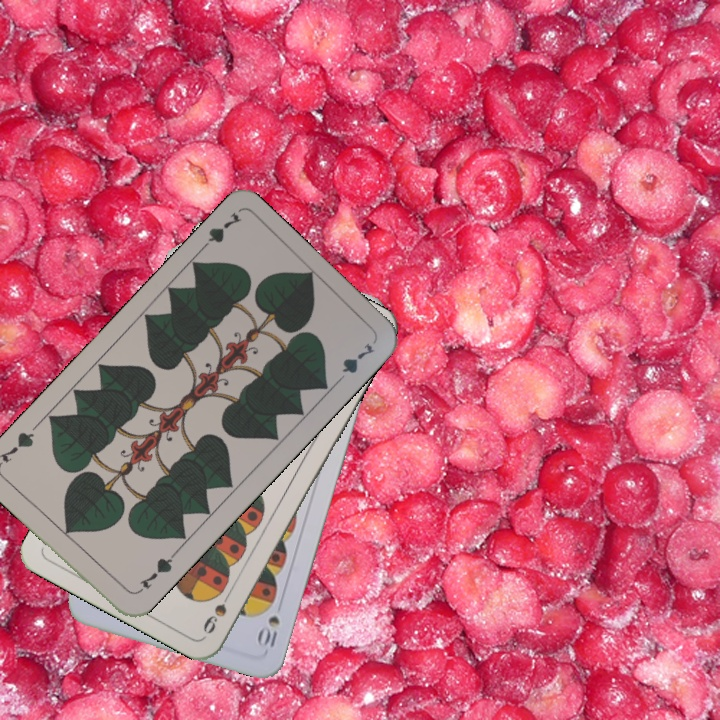G7: (194, 208, 244, 256), (132, 549, 178, 596)
S10: (255, 611, 283, 652)
S9: (199, 583, 236, 637)
